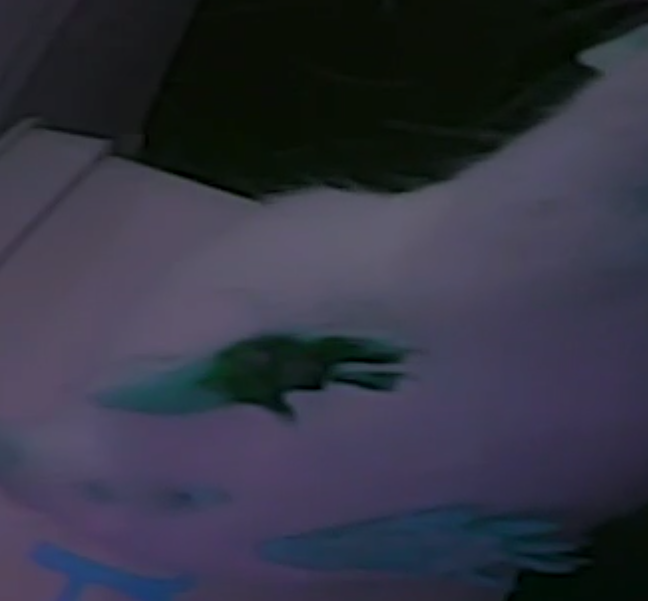paw: (75, 317, 437, 436)
